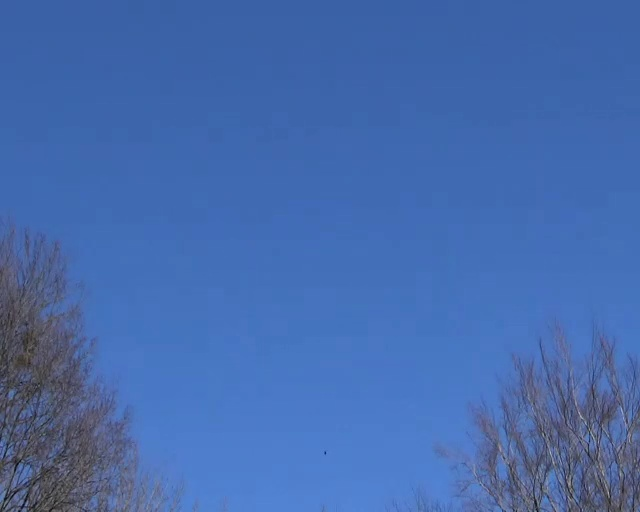BIRD: (323, 450, 328, 455)
